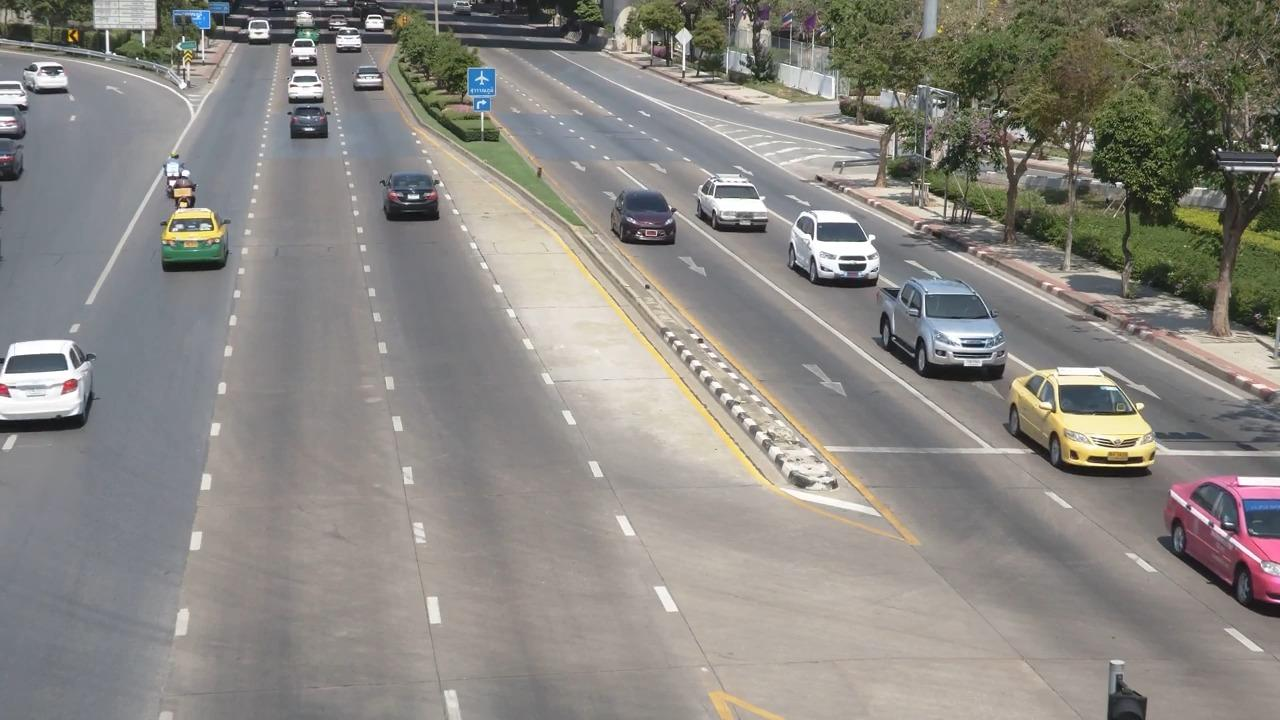CAR: (1001, 357, 1158, 473), (1158, 470, 1280, 615), (877, 270, 1013, 392), (0, 324, 102, 437), (779, 200, 888, 294), (684, 166, 778, 246), (603, 179, 690, 261), (153, 200, 237, 276), (372, 165, 449, 230), (276, 98, 341, 152), (276, 91, 342, 137), (23, 51, 76, 98), (283, 65, 333, 109), (334, 47, 382, 91), (346, 62, 397, 102), (333, 30, 378, 66), (283, 36, 325, 72), (239, 19, 277, 53), (2, 79, 28, 125), (359, 11, 394, 41), (290, 22, 321, 50)
MOTOR: (154, 147, 188, 194), (168, 169, 201, 211)
